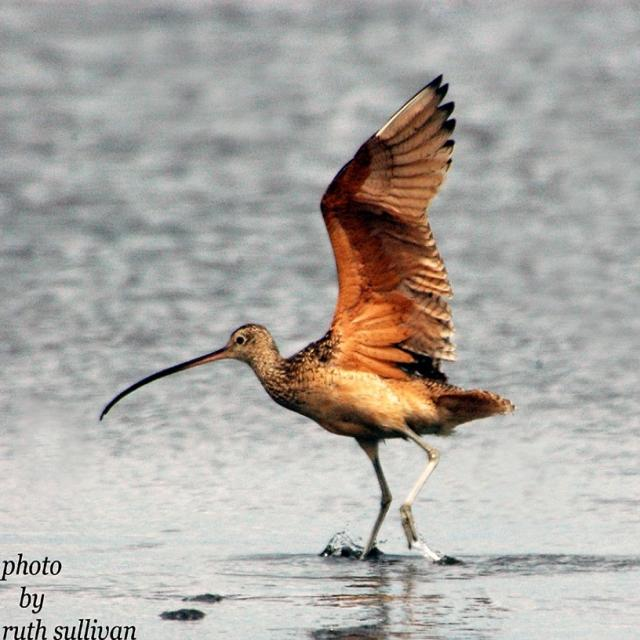bird: (83, 67, 536, 562)
